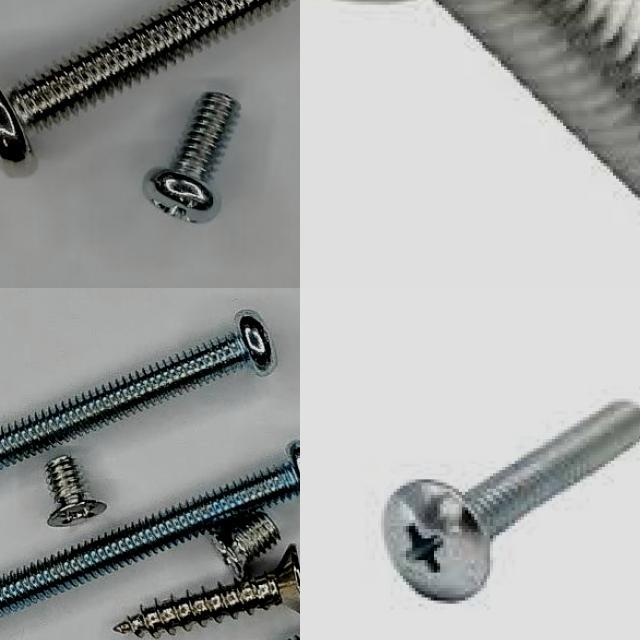Screw: (325, 0, 640, 204), (0, 442, 300, 617), (381, 402, 640, 601), (0, 0, 294, 175), (0, 311, 275, 469), (114, 546, 300, 638), (144, 92, 241, 223), (46, 455, 107, 526), (216, 513, 281, 579)
